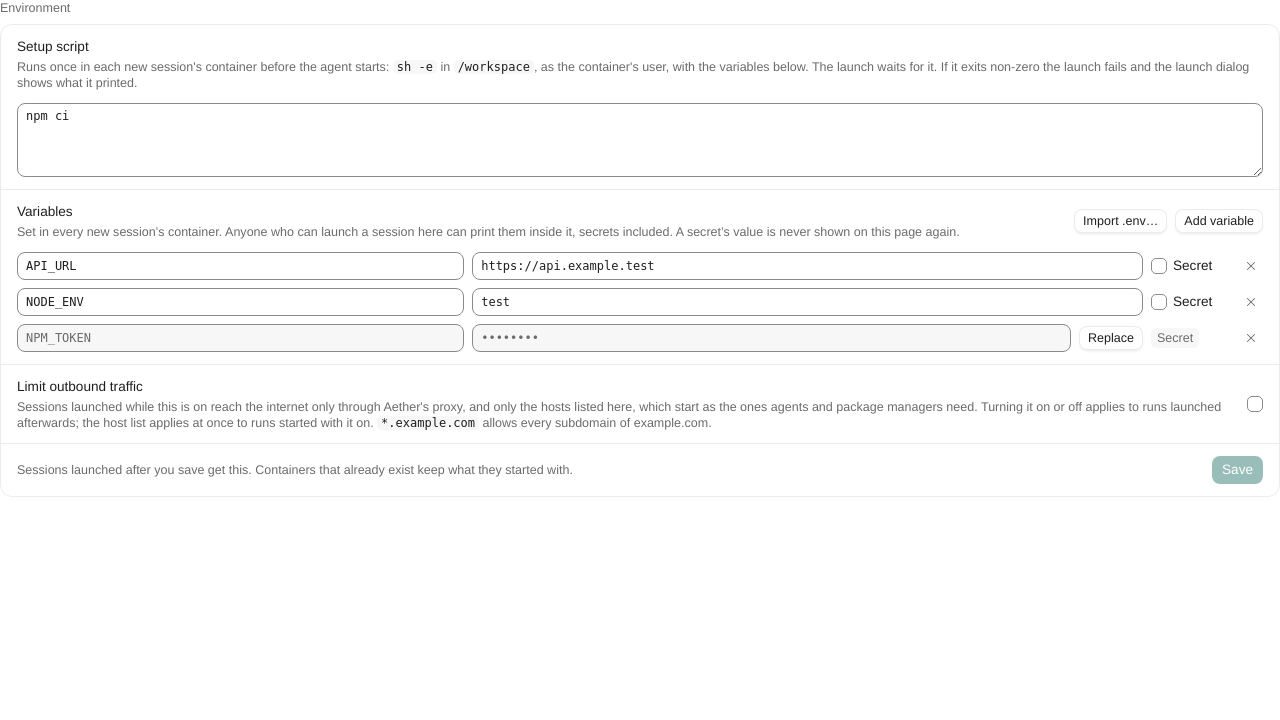
it: workspace environment › shows the server’s refusal and keeps the edit
The image size is (1280, 720).
Type "make deps" into the text box named "Setup script".
click(640, 140); type("make deps")  # box x1=17 y1=103 x2=1263 y2=177
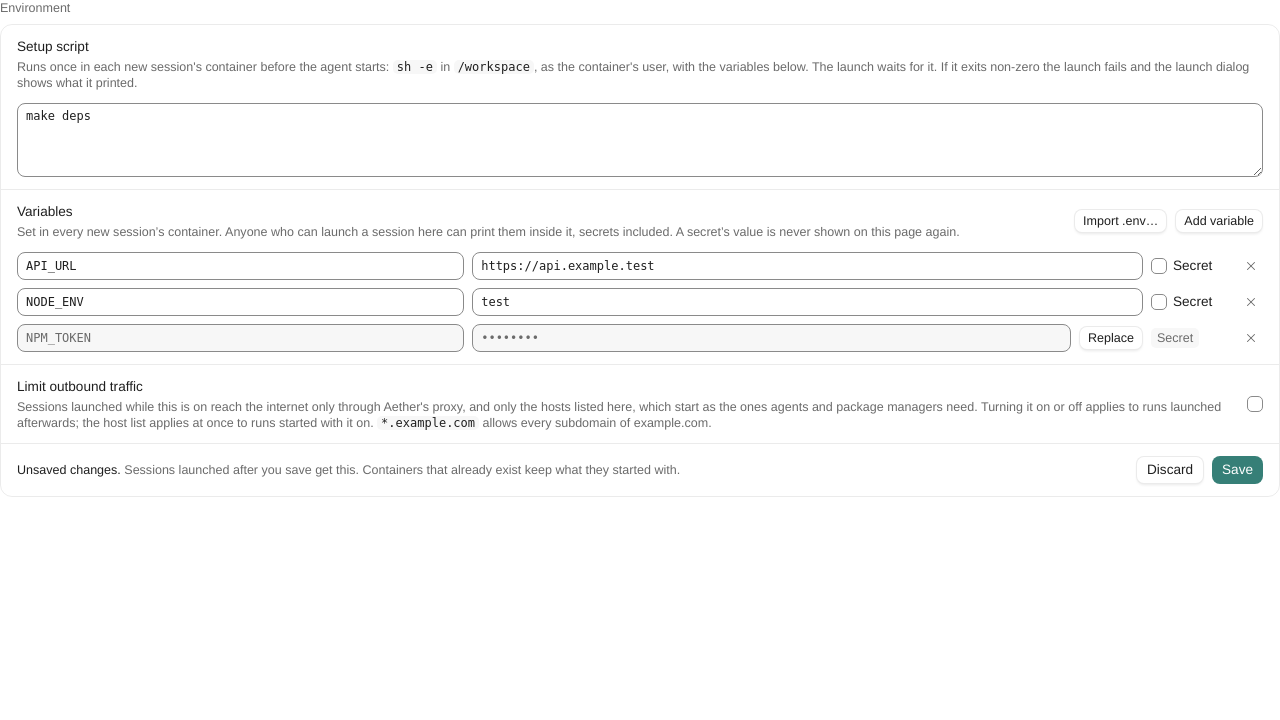
Click the 5th button named "Save".
click(1238, 470)  # box x1=1212 y1=456 x2=1263 y2=484
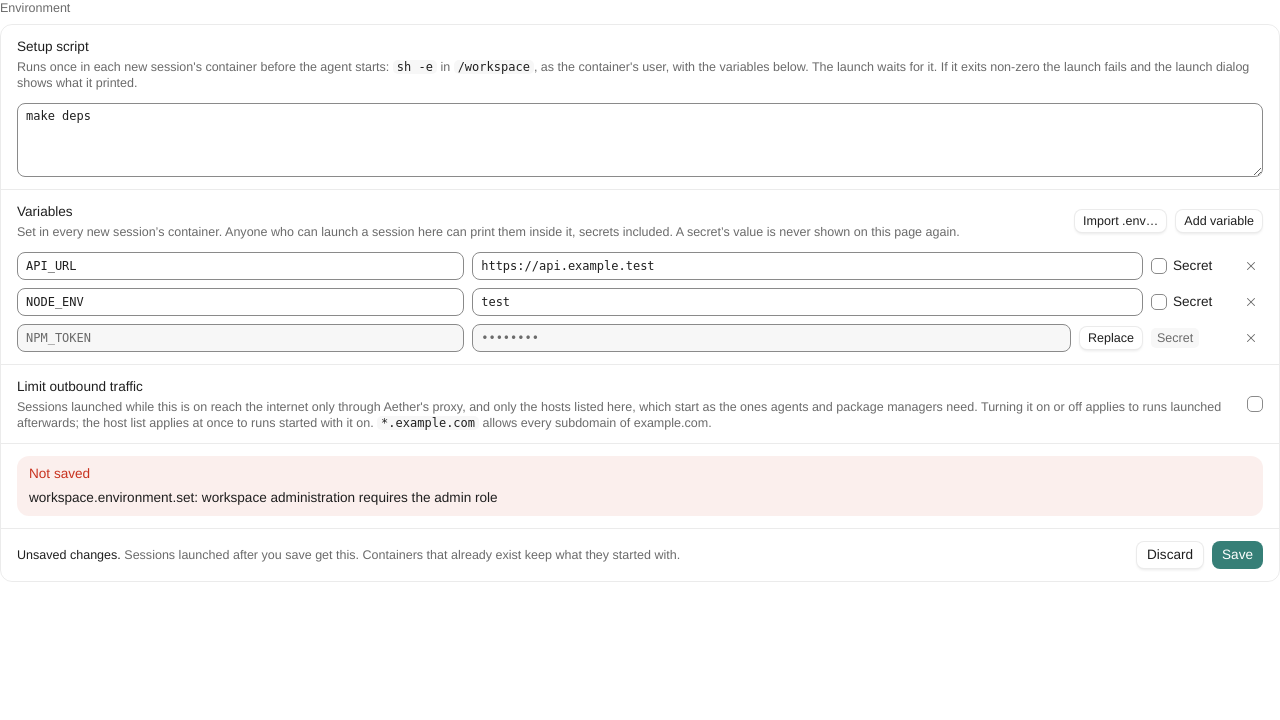
Click the 4th button named "Discard".
click(1170, 555)  # box x1=1136 y1=541 x2=1204 y2=569
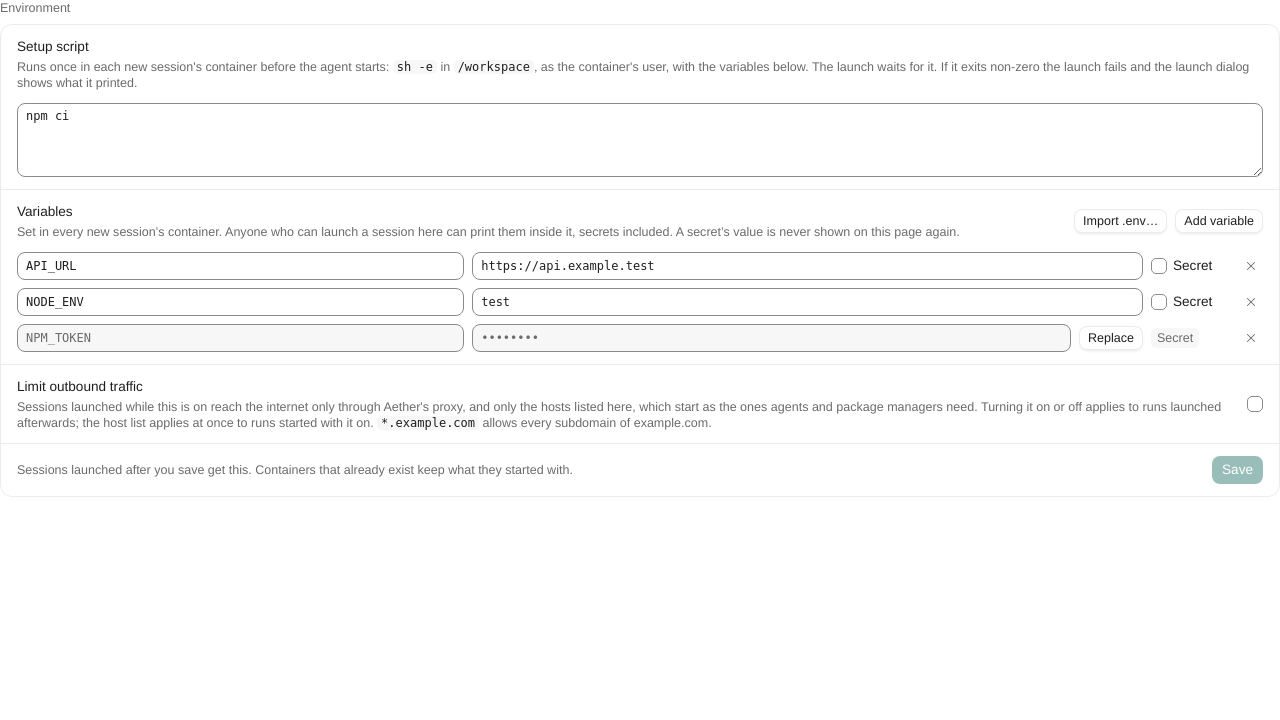
Expected: the message is gone
